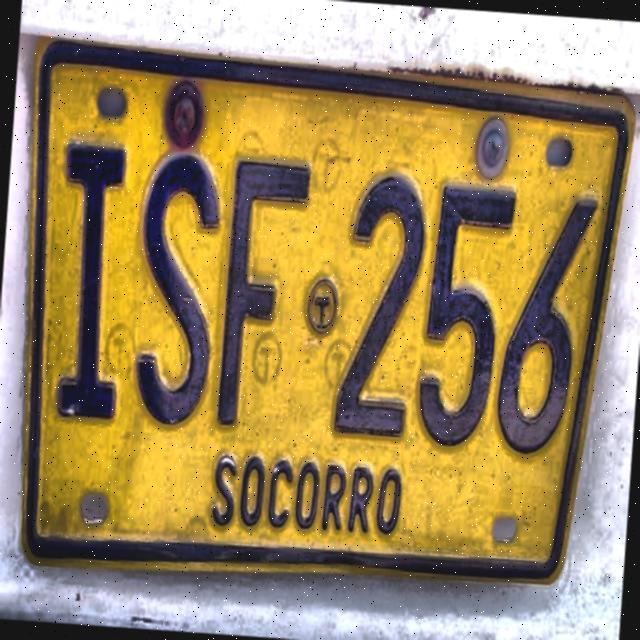plate: (21, 35, 635, 585)
